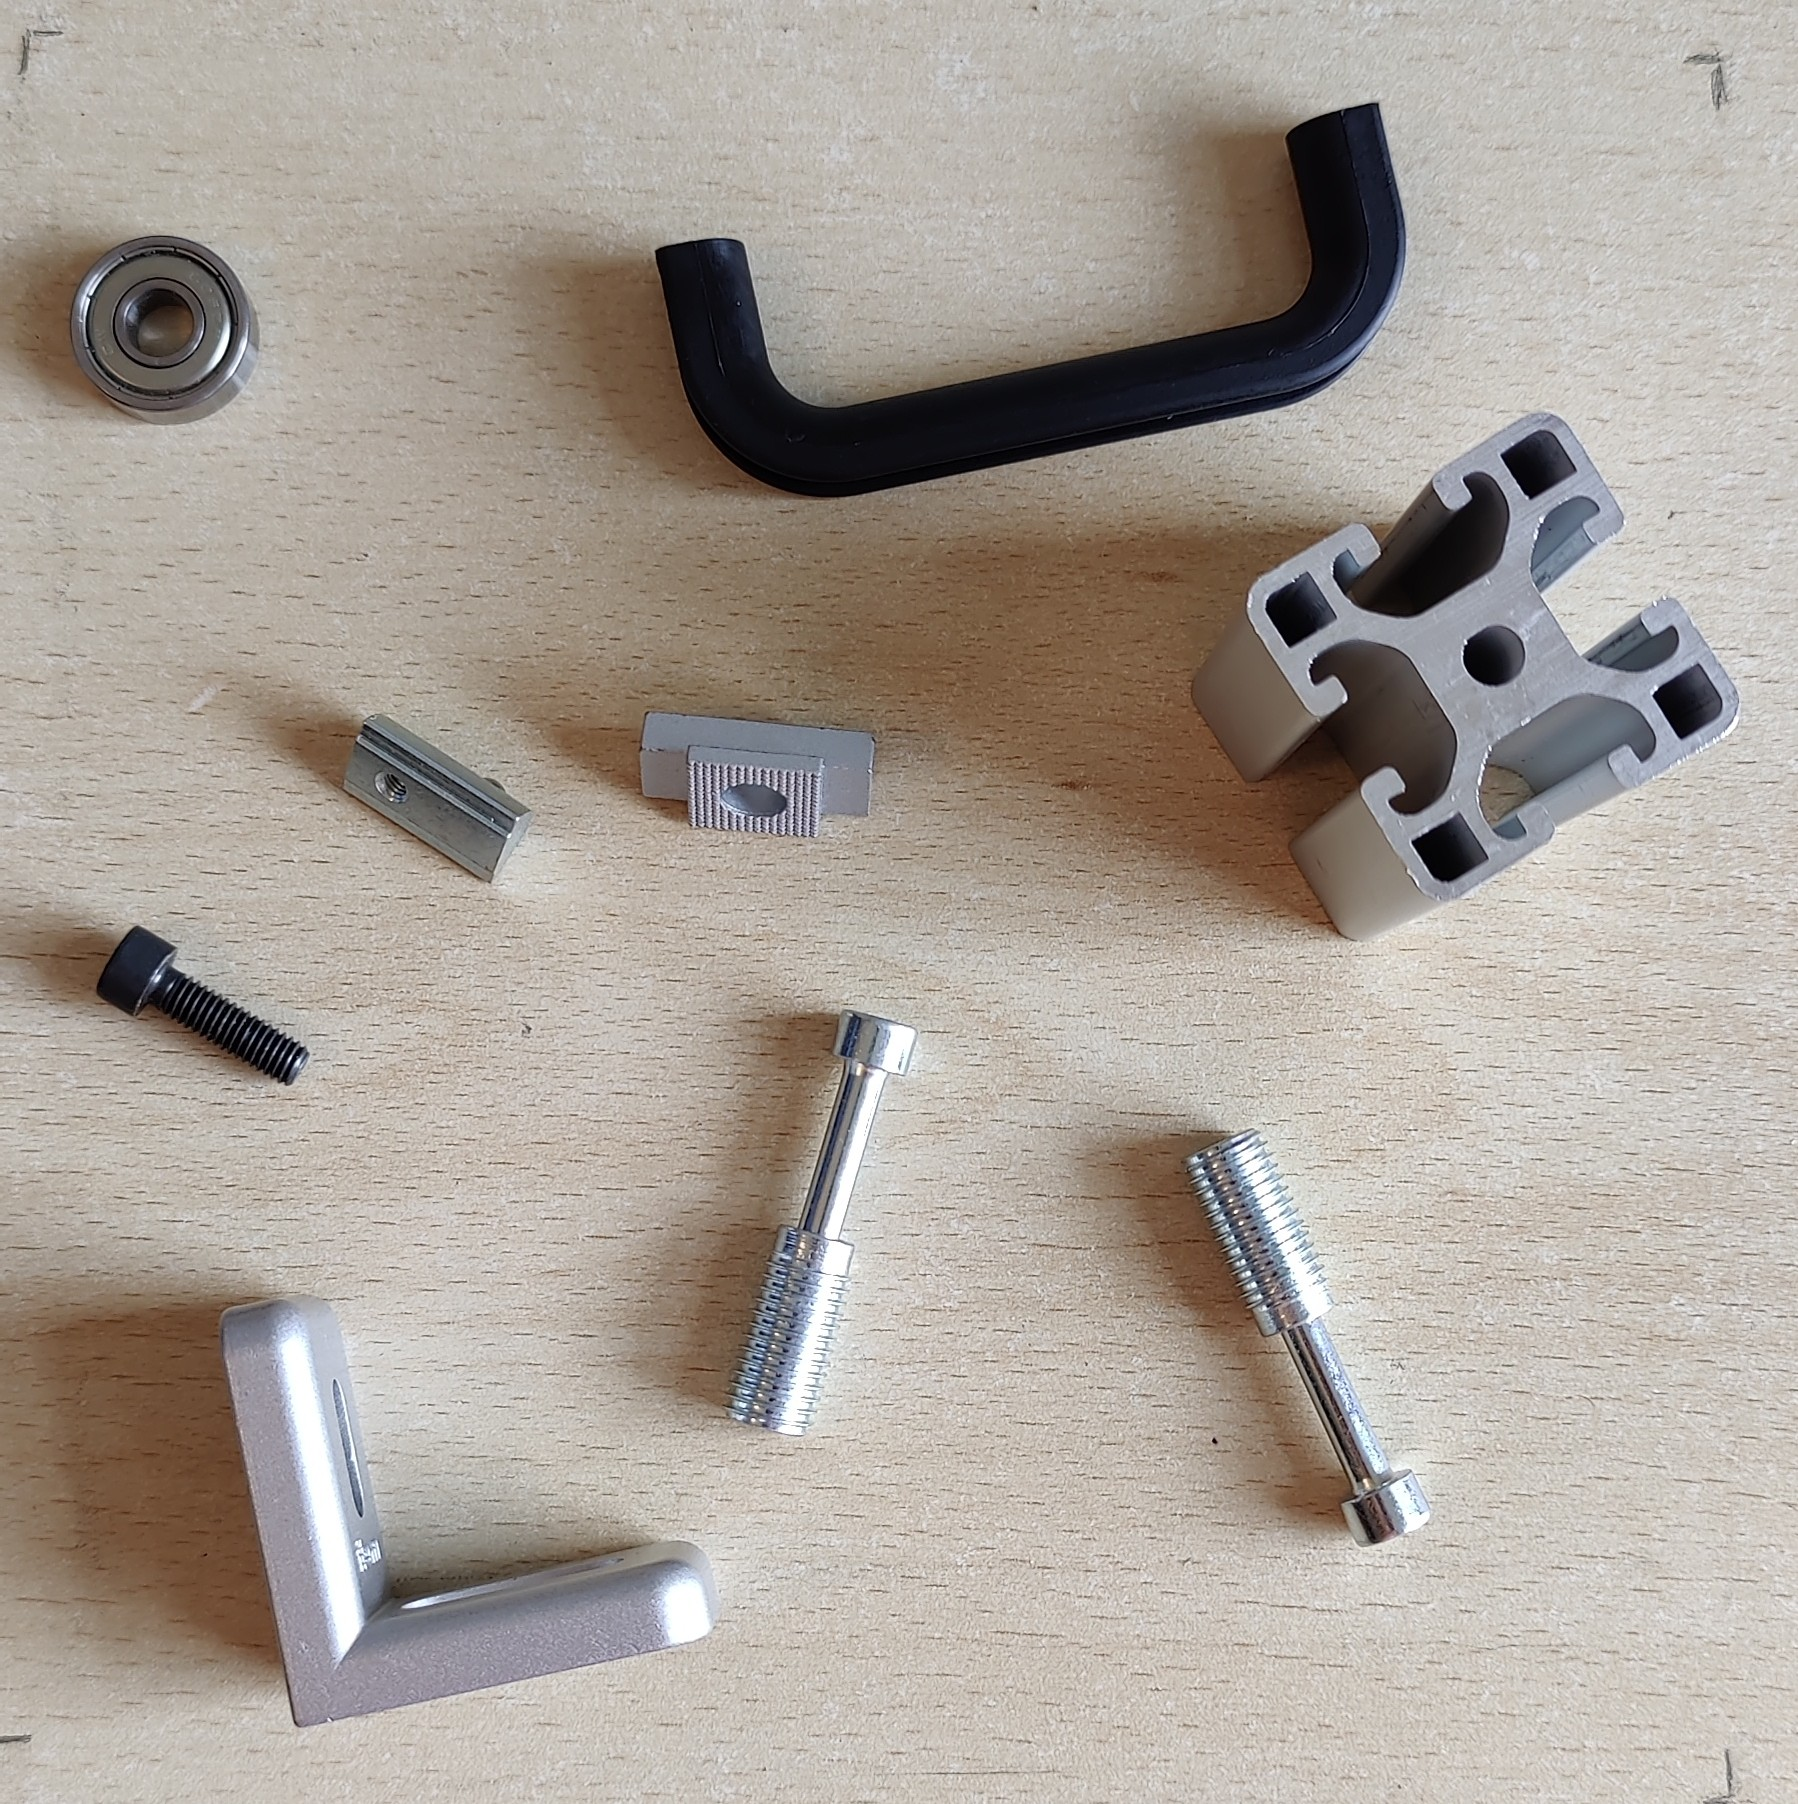Aluminium Extension: (1185, 411, 1744, 945)
Ball Bearing: (63, 230, 262, 426)
Multiwinkel: (214, 1289, 721, 1727)
Pull Handle: (652, 99, 1409, 504)
Shoulder Socket Head Cap Screw: (1181, 1123, 1441, 1551), (716, 1006, 919, 1437)
Socket Head Cap Screw: (89, 918, 311, 1090)
T Nut Square: (636, 704, 878, 844)
T Spring Nut: (338, 708, 537, 889)
